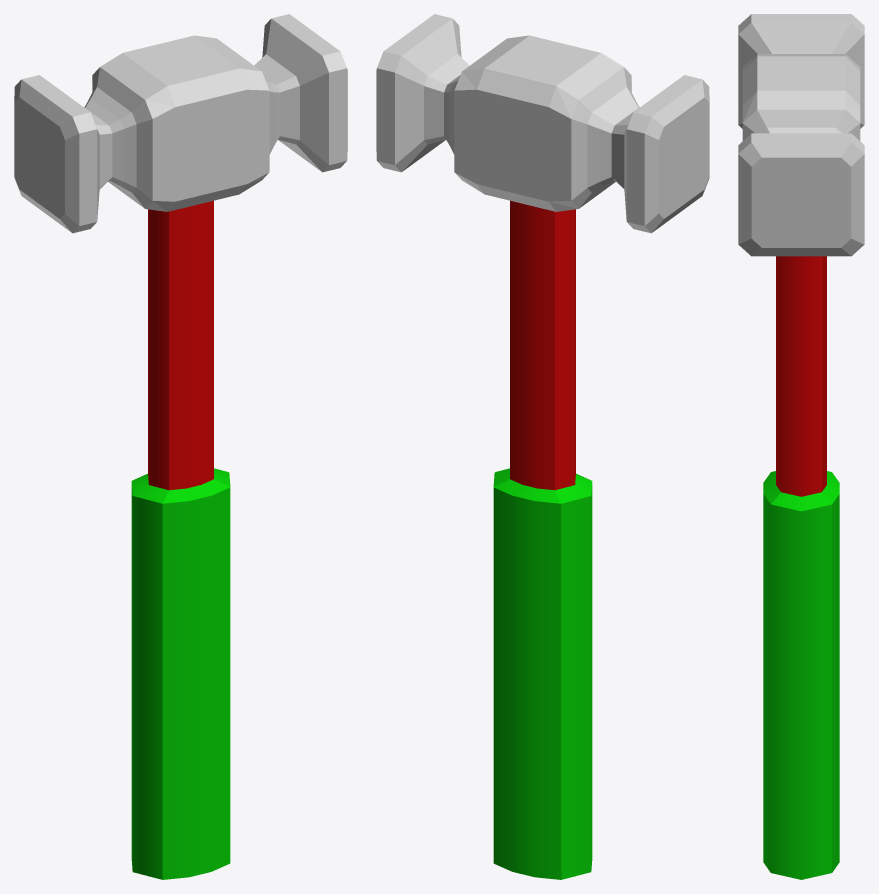
File: HammerTexture.fbx
3 views of the same model, side by side, from view 1: azimuth 30°, elevation 25°; view 2: azimuth 150°, elevation 25°; view 3: azimuth 270°, elevation 25° (orthographic). The views are drawn at different scales.
Parts seen in each view (by area): view 1: Handle, Head; view 2: Handle, Head; view 3: Handle, Head.
Boxes of the visible parts, x1=… form: Handle: x1=131, y1=200, x2=230, y2=879; Head: x1=14, y1=14, x2=347, y2=233; Handle: x1=493, y1=200, x2=592, y2=879; Head: x1=376, y1=14, x2=709, y2=233; Handle: x1=763, y1=256, x2=839, y2=879; Head: x1=738, y1=14, x2=864, y2=256.
Size of the model in its own units: 5.46 by 14.76 by 2.15.
